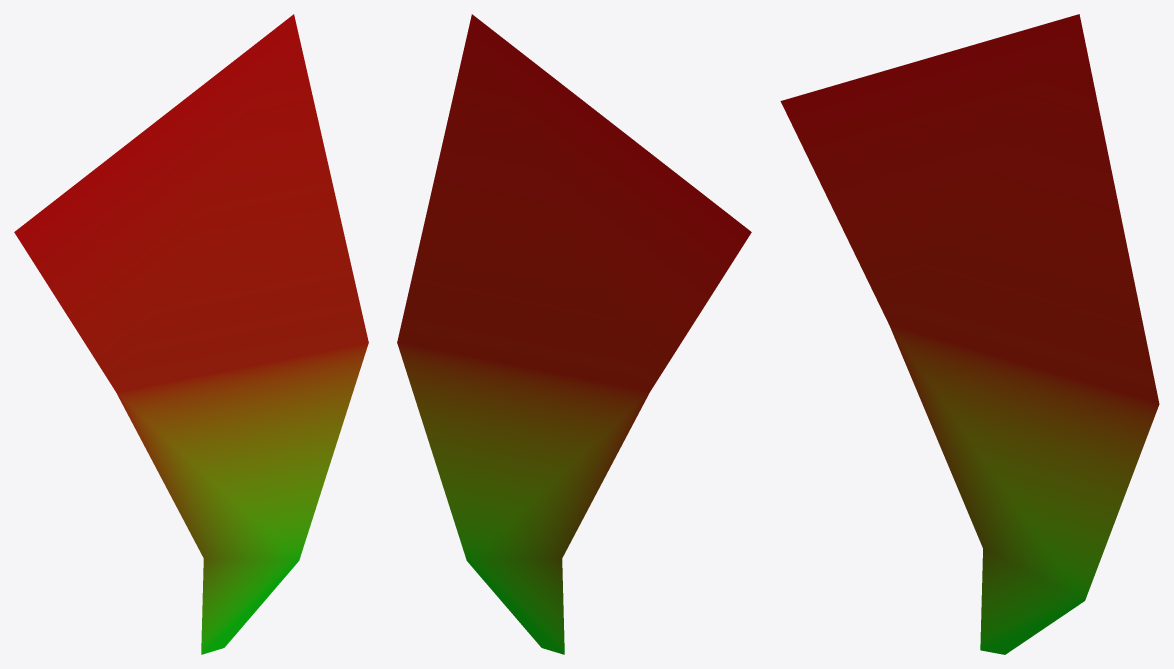
The model's file is Var15_LOD4.fbx.
The picture shows the model from 3 angles, left to right: view 1: azimuth 30°, elevation 25°; view 2: azimuth 150°, elevation 25°; view 3: azimuth 330°, elevation 25°; orthographic projection. The views are drawn at different scales.
Parts seen in each view (by area): view 1: _l4hq_Var15_LOD4; view 2: _l4hq_Var15_LOD4; view 3: _l4hq_Var15_LOD4.
Part boxes in pixels (bbox=[...]): _l4hq_Var15_LOD4: bbox=[14, 14, 368, 654]; _l4hq_Var15_LOD4: bbox=[397, 14, 751, 654]; _l4hq_Var15_LOD4: bbox=[780, 14, 1159, 654].
Bounding box in the file's own units: 10.68 × 17.78 × 7.77e-07.
